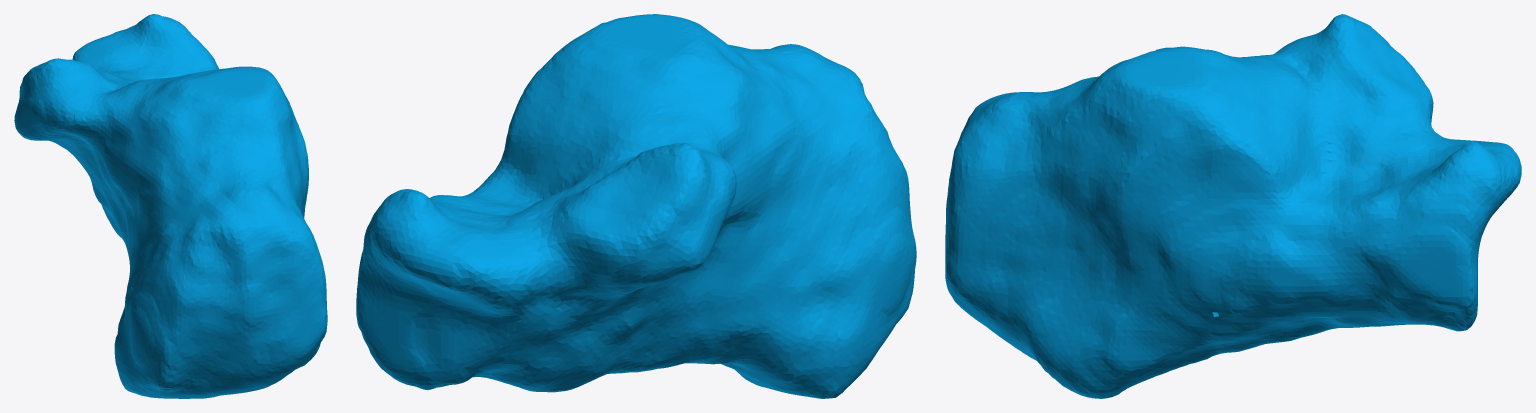
File: Calcaneus-0-remesh-31K-smooth.fbx
3 renders of one model, left to right at view 1: azimuth 30°, elevation 25°; view 2: azimuth 150°, elevation 25°; view 3: azimuth 270°, elevation 25°, orthographic. The views are drawn at different scales.
Visible parts, largest first — view 1: node_id60; view 2: node_id60; view 3: node_id60.
Boxes of the visible parts, x1=… form: node_id60: x1=14, y1=14, x2=327, y2=398; node_id60: x1=356, y1=14, x2=916, y2=398; node_id60: x1=945, y1=14, x2=1521, y2=398.
Size of the model in its own units: 0.4818 by 0.512 by 0.8425.
1 material, 1 textured.
